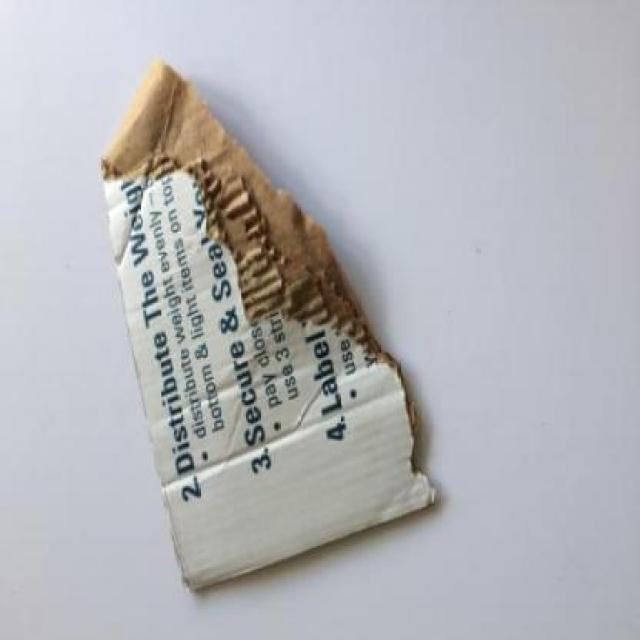box: (78, 56, 473, 602)
